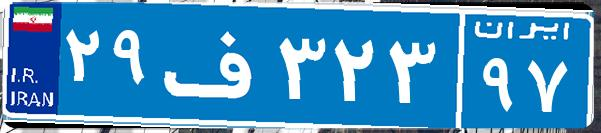2: (330, 28, 385, 110), (57, 26, 110, 107)
3: (385, 28, 445, 110), (273, 28, 330, 110)
7: (525, 38, 570, 115)
9: (475, 38, 525, 113), (110, 28, 158, 105)
ف: (158, 15, 273, 115)
